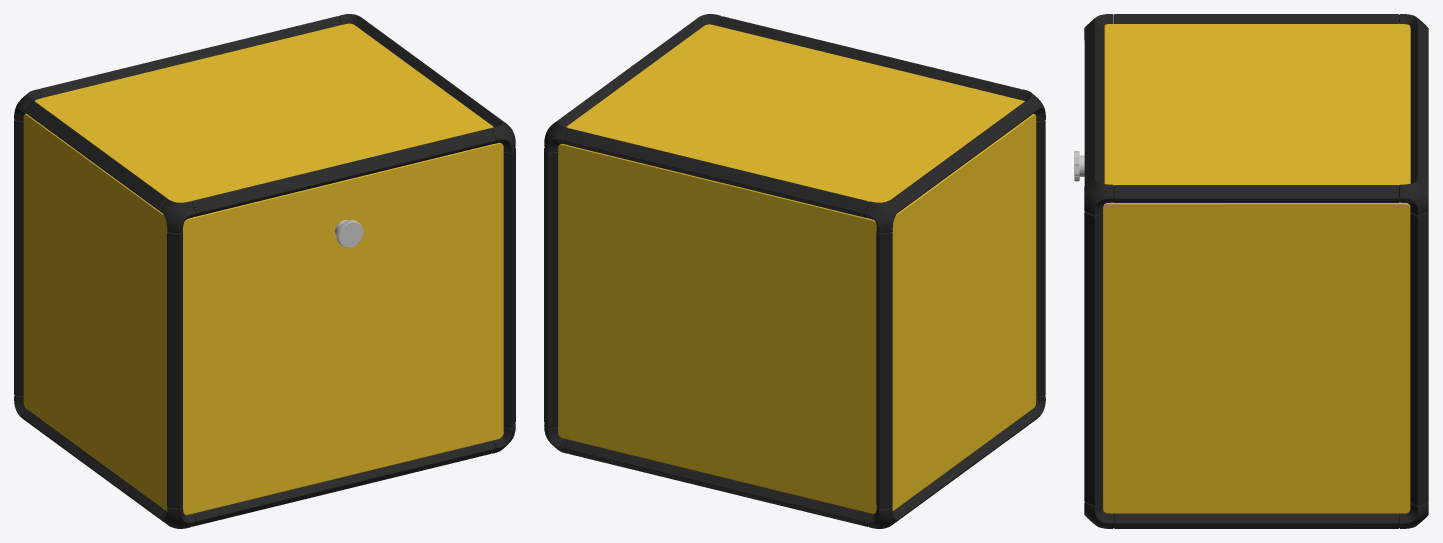
3 views of the same model, side by side, from view 1: azimuth 30°, elevation 25°; view 2: azimuth 150°, elevation 25°; view 3: azimuth 270°, elevation 25° (orthographic). The views are drawn at different scales.
Parts seen in each view (by area): view 1: 479x374x420; view 2: 479x374x420; view 3: 479x374x420.
Part boxes in pixels (<box>): 479x374x420: <box>14,14,515,528</box>; 479x374x420: <box>544,14,1045,528</box>; 479x374x420: <box>1074,14,1428,528</box>.
Size of the model in its own units: 0.5567 by 0.4977 by 0.4646.
